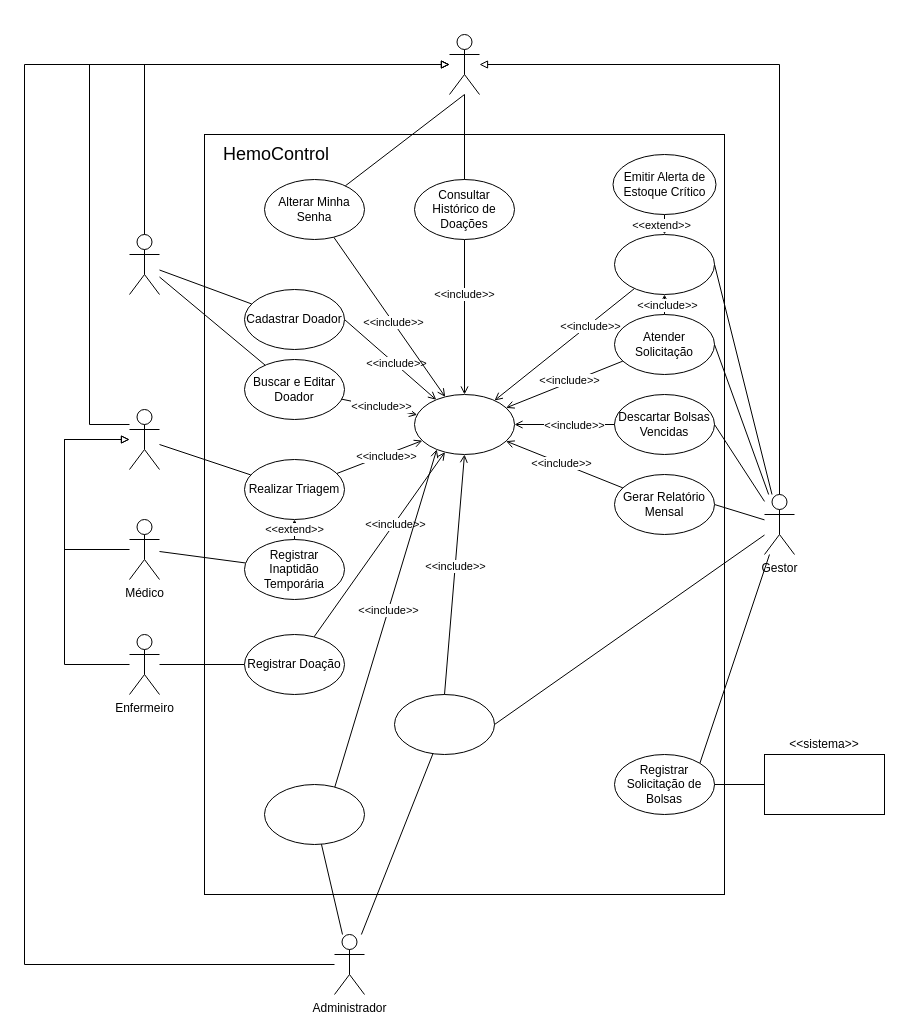
The diagram is 902 pixels wide and 1033 high, and some of its shapes have lost their labels. Here are the shapes that lost their labels. From the top down, the centre of each, then its label:
At point (464, 64): "Usuário".
At point (144, 264): "Recepcionista".
At point (664, 264): "Consultar Estoque".
At point (144, 439): "Profissional de Saúde".
At point (464, 424): "Autenticar Usuário".
At point (444, 724): "Gerenciar Usuários".
At point (824, 784): "Sistema do Hospital Solicitante".
At point (314, 814): "Consultar Log de Atividades".
